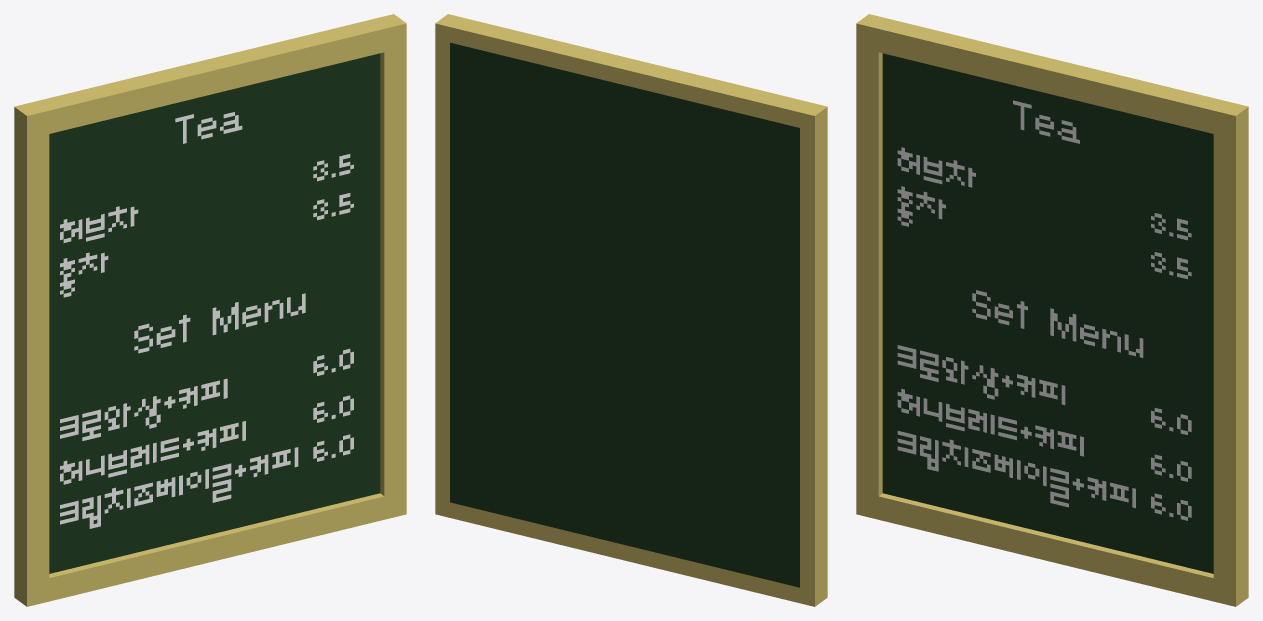
Rendered from Cafe_Menu3.fbx.
3 views of the same model, side by side, from view 1: azimuth 30°, elevation 25°; view 2: azimuth 150°, elevation 25°; view 3: azimuth 330°, elevation 25° (orthographic).
Visible parts, largest first — view 1: Cafe Menu3; view 2: Cafe Menu3; view 3: Cafe Menu3.
Boxes of the visible parts, x1,y1,x2,y2 form: Cafe Menu3: (14, 14, 406, 606); Cafe Menu3: (435, 14, 827, 606); Cafe Menu3: (856, 14, 1248, 606).
Size of the model in its own units: 10.2 by 12.6 by 0.6.
